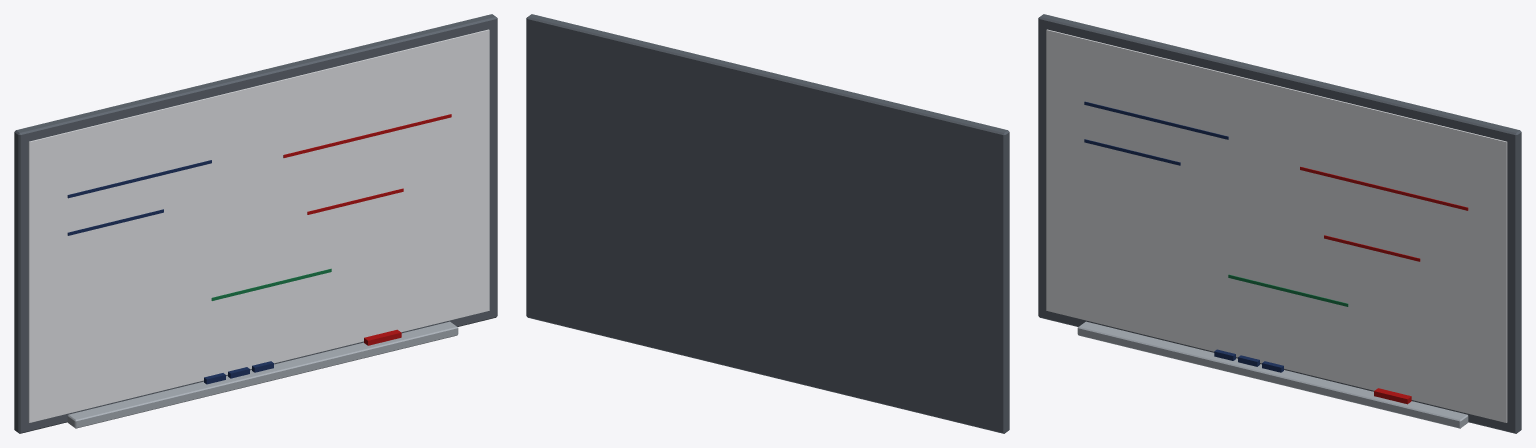
Rendered from whiteboard.glb.
The picture shows the model from 3 angles, left to right: view 1: azimuth 30°, elevation 25°; view 2: azimuth 150°, elevation 25°; view 3: azimuth 330°, elevation 25°; orthographic projection.
Visible parts, largest first — view 1: whiteboard; view 2: whiteboard; view 3: whiteboard.
Part boxes in pixels (x1,y1,x2,y2): whiteboard: (14,14,497,433); whiteboard: (526,14,1009,433); whiteboard: (1038,14,1521,433).
Bounding box in the file's own units: 2 × 1.2 × 0.1.
